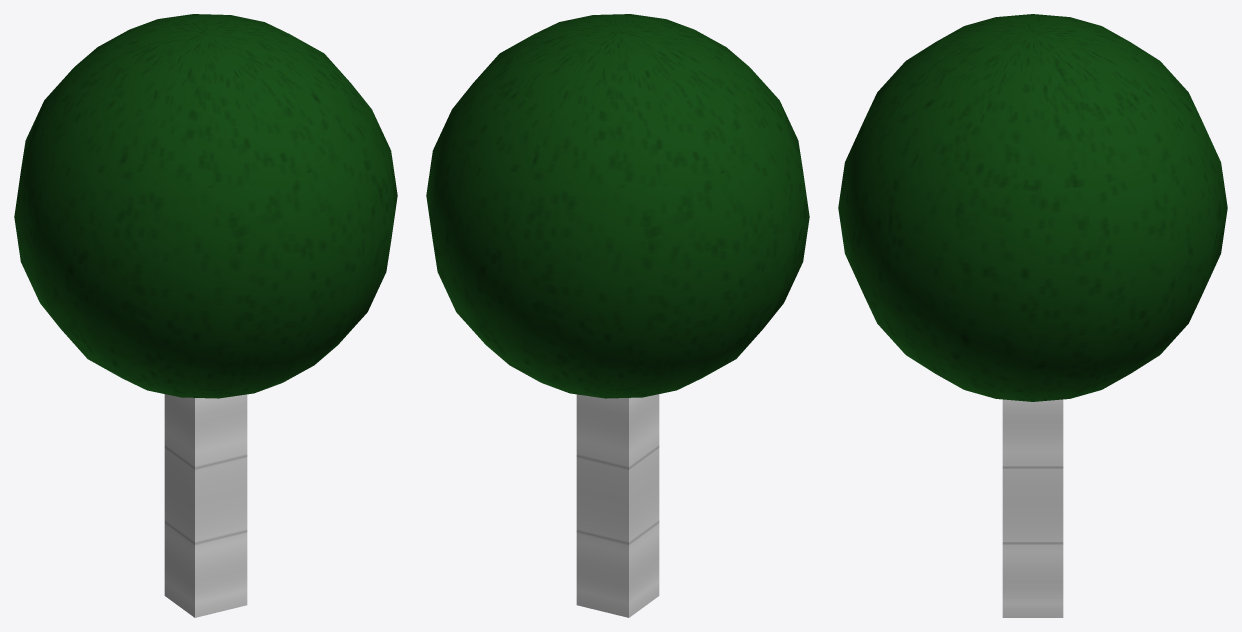
The model's file is arvore-bola.glb.
3 renders of one model, left to right at view 1: azimuth 30°, elevation 25°; view 2: azimuth 150°, elevation 25°; view 3: azimuth 270°, elevation 25°, orthographic.
Parts seen in each view (by area): view 1: arvore_blocos, tronco; view 2: arvore_blocos, tronco; view 3: arvore_blocos, tronco.
Part boxes in pixels (x1,y1,x2,y2): arvore_blocos: (14, 14, 397, 398); tronco: (164, 394, 247, 617); arvore_blocos: (426, 14, 809, 398); tronco: (576, 394, 659, 617); arvore_blocos: (838, 14, 1227, 401); tronco: (1002, 399, 1063, 617).
Size of the model in its own units: 3.2 by 5.2 by 3.2.
Materials: 2 (2 with a texture image).
